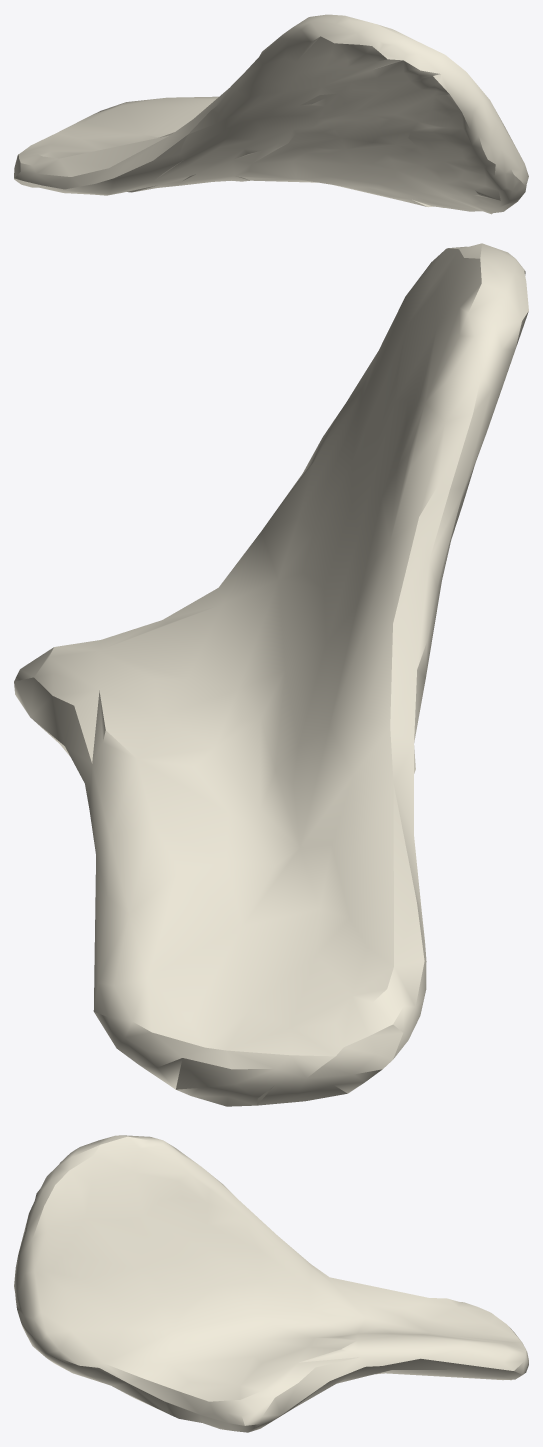
Rendered from fma44253_mm1382.glb.
3 renders of one model, top to bottom at view 1: azimuth 30°, elevation 25°; view 2: azimuth 150°, elevation 25°; view 3: azimuth 270°, elevation 25°, orthographic. The views are drawn at different scales.
Parts seen in each view (by area): view 1: FMA44253_MM1382; view 2: FMA44253_MM1382; view 3: FMA44253_MM1382.
Part boxes in pixels (left/top/right/bottom): FMA44253_MM1382: left=14, top=14, right=528, bottom=214; FMA44253_MM1382: left=14, top=243, right=528, bottom=1106; FMA44253_MM1382: left=14, top=1135, right=528, bottom=1432.
Bounding box in the file's own units: 0.022 × 0.0182 × 0.0323.
